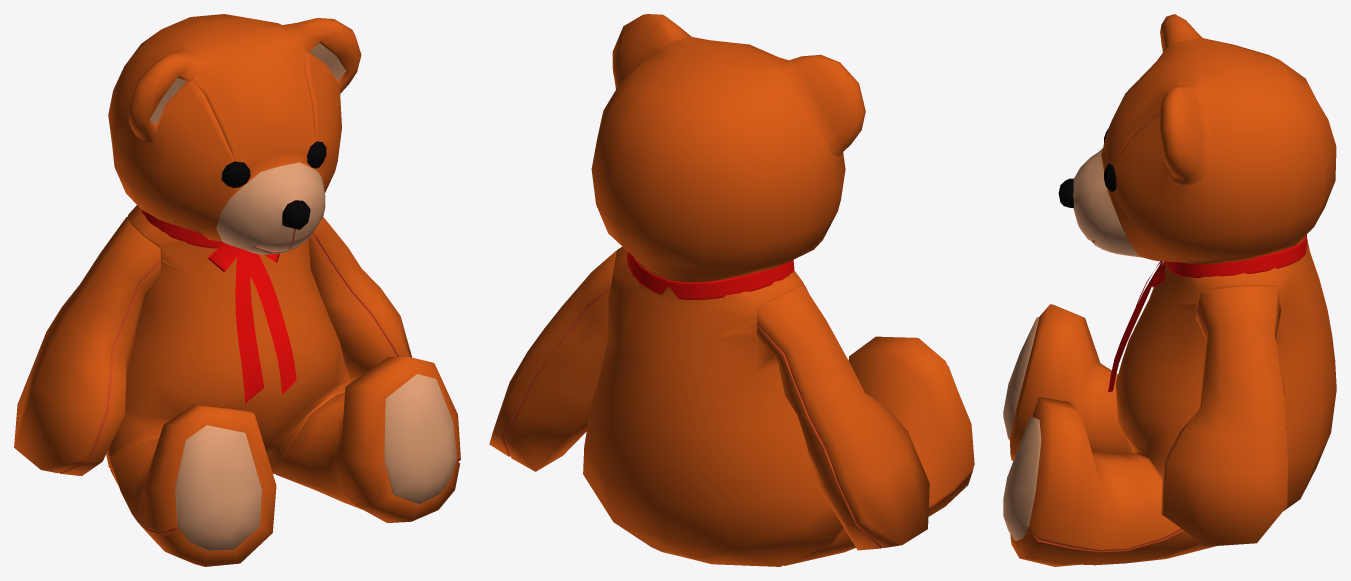
File: kuma.obj
3 views of the same model, side by side, from view 1: azimuth 30°, elevation 25°; view 2: azimuth 150°, elevation 25°; view 3: azimuth 270°, elevation 25° (orthographic). The views are drawn at different scales.
Visible parts, largest first — view 1: Object002, Object001, Generic04, Object004, default01; view 2: Object002, Generic04, default01; view 3: Object002, Object001, Generic04, Object004, default01.
Part boxes in pixels (bbox=[...]): Object002: bbox=[14, 14, 460, 566]; Object001: bbox=[149, 43, 456, 550]; Generic04: bbox=[141, 209, 296, 403]; Object004: bbox=[221, 141, 326, 229]; default01: bbox=[60, 51, 459, 535]; Object002: bbox=[489, 14, 974, 566]; Generic04: bbox=[627, 252, 794, 299]; default01: bbox=[501, 286, 973, 547]; Object002: bbox=[1010, 14, 1336, 566]; Object001: bbox=[1003, 148, 1140, 540]; Generic04: bbox=[1108, 234, 1306, 392]; Object004: bbox=[1058, 128, 1116, 207]; default01: bbox=[1028, 110, 1279, 551].
Bounding box in the file's own units: 0.2166 × 0.2503 × 0.1632.
